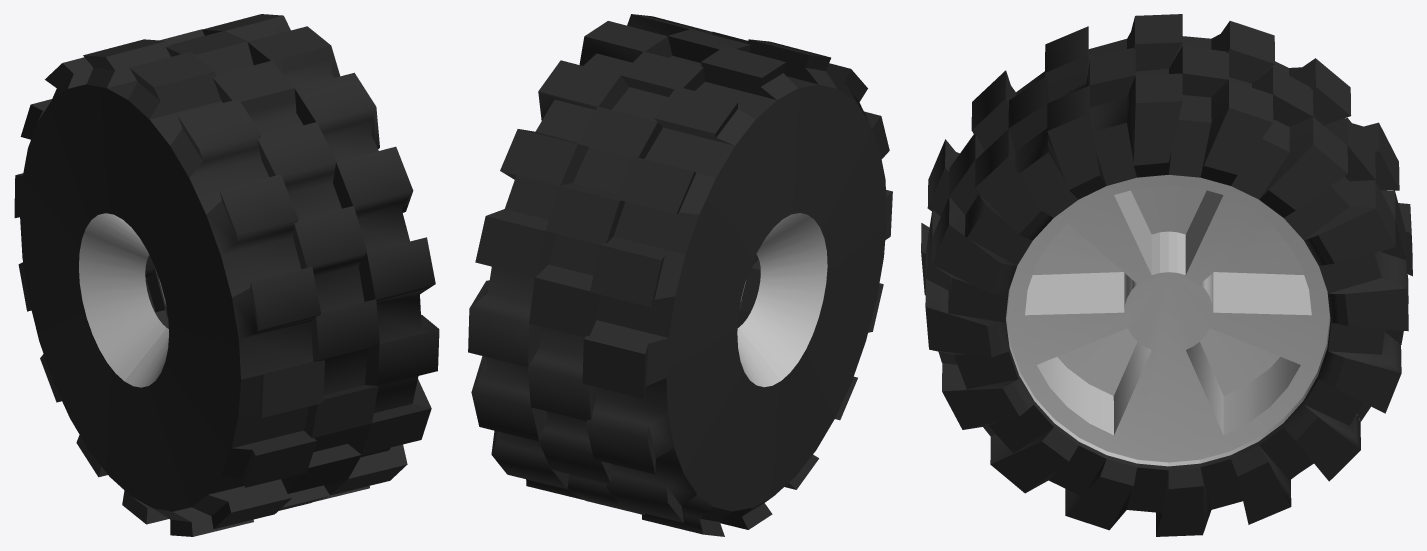
File: lastik.fbx
3 views of the same model, side by side, from view 1: azimuth 30°, elevation 25°; view 2: azimuth 150°, elevation 25°; view 3: azimuth 270°, elevation 25° (orthographic).
Visible parts, largest first — view 1: lastik; view 2: lastik; view 3: lastik.
Boxes of the visible parts, left/top/right/bottom form: lastik: left=14, top=14, right=439, bottom=536; lastik: left=468, top=14, right=892, bottom=536; lastik: left=921, top=14, right=1412, bottom=536.
Size of the model in its own units: 56.82 by 117 by 118.
